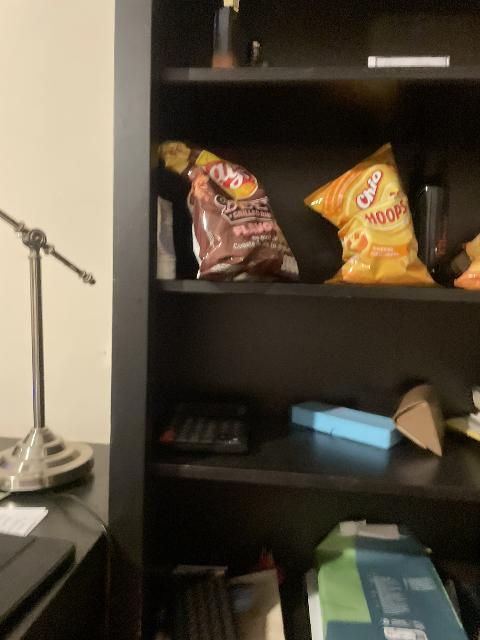Chio Hula Hoops Cheese 70g: (313, 143, 438, 287)
Lays Beef Grilled Ribs 125g: (156, 140, 300, 282)
